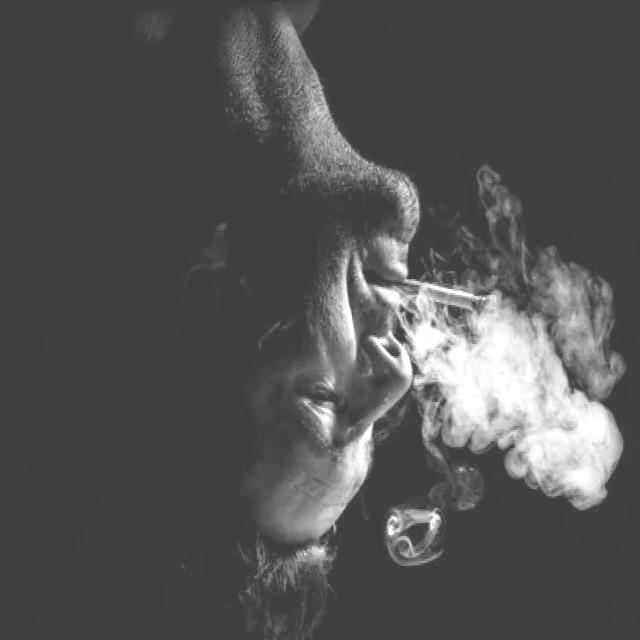cigarette: (376, 264, 507, 327)
